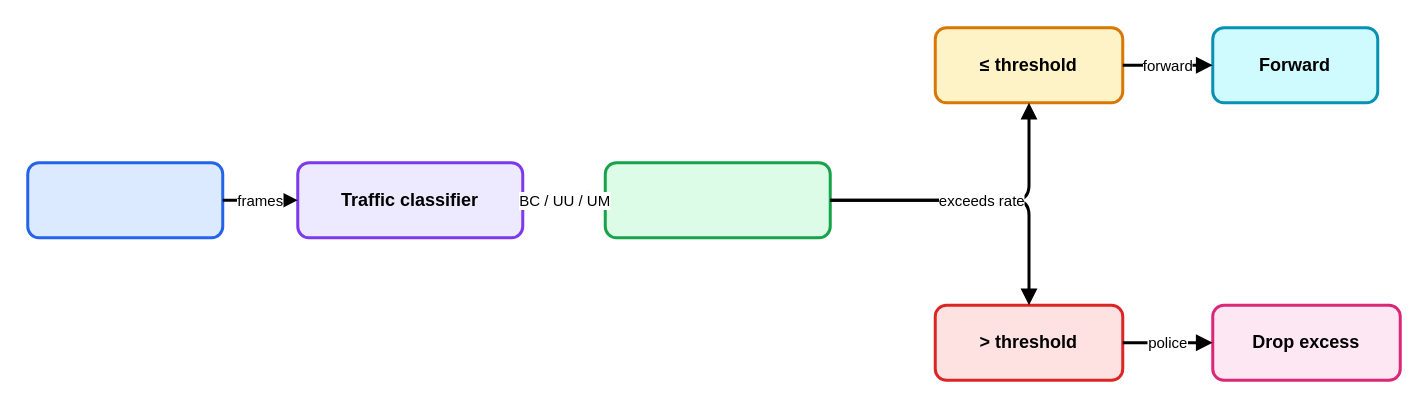
Image size: 1427x407. Some labels were removed from this diagram. Here are the shapes that lost their labels. From the top down, the centre of each, then its label:
At (125,199): "Ingress port".
At (717,199): "PPS meter + burst".
